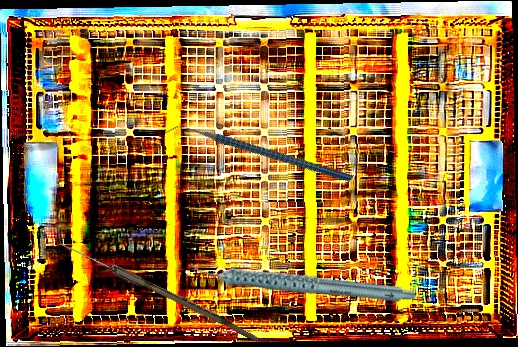Chopper: (164, 71, 354, 239)
Handpiece: (188, 214, 417, 347)
Surgical Spoon: (58, 240, 261, 342)
